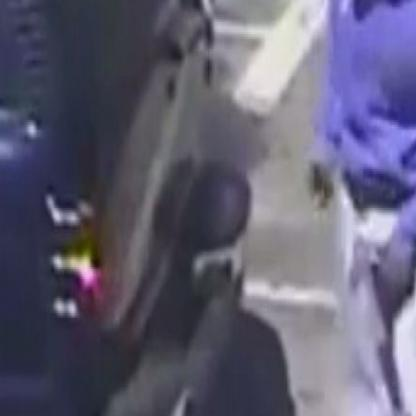gun: (294, 140, 352, 228)
